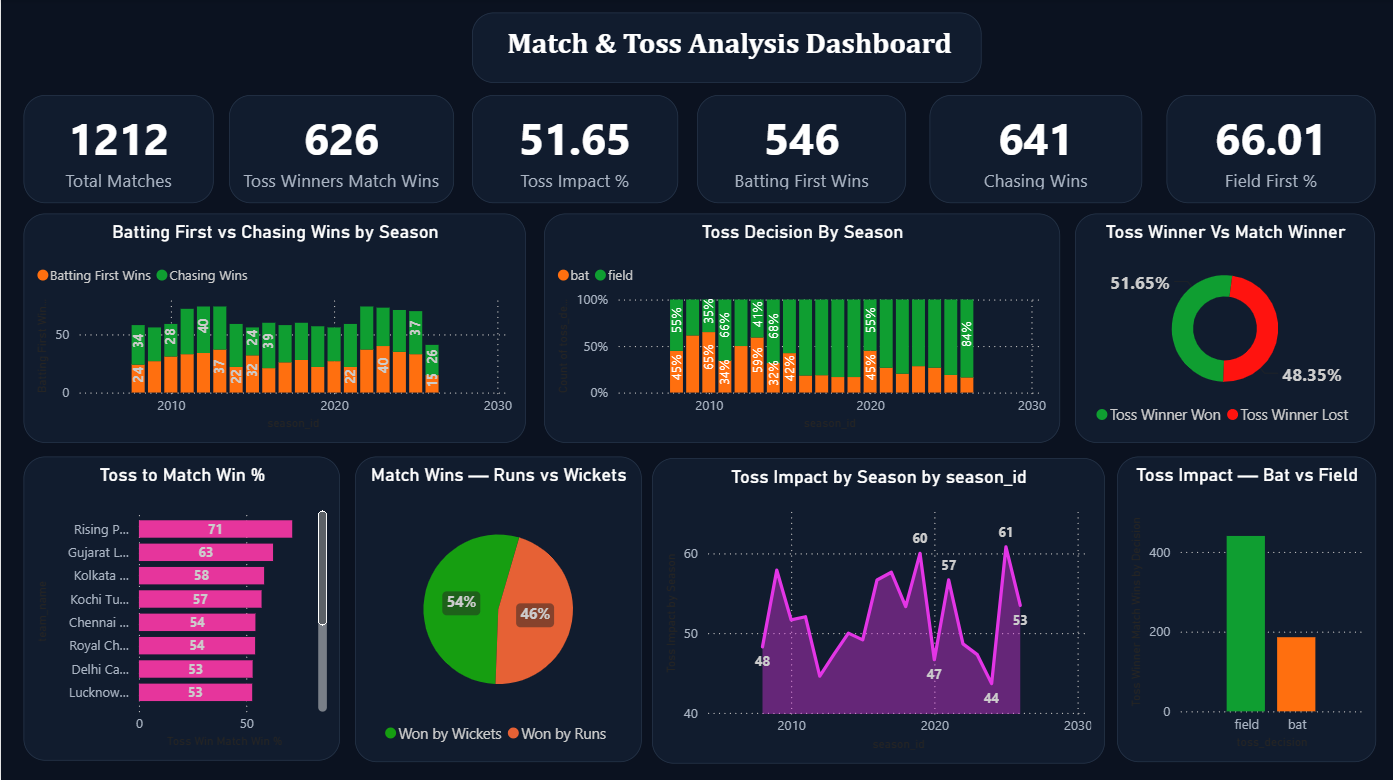

What the dashboard file says about the page in this screenshot:
{"tool":"powerbi","page":{"name":"05 - Match & Toss Analysis","canvas":[1280,720],"ordinal":4},"visuals":[{"type":"card","fields":{"Values":["Measures Table.Total Matches"]},"box":[20.5,88.2,174.8,99.2],"z":0},{"type":"card","fields":{"Values":["Match & Toss Measures.Toss Winners Match Wins"]},"box":[209.5,88.2,206.3,99.2],"z":1000},{"type":"card","fields":{"Values":["Match & Toss Measures.Toss Impact %"]},"box":[433.1,88.2,189,99.2],"z":2000},{"type":"card","fields":{"Values":["Match & Toss Measures.Chasing Wins"]},"box":[852.1,88.2,195.3,99.2],"z":3000},{"type":"card","fields":{"Values":["Match & Toss Measures.Batting First Wins"]},"box":[639.5,88.2,192.2,99.2],"z":4000},{"type":"card","fields":{"Values":["Match & Toss Measures.Field First %"]},"box":[1071.1,88.2,192.2,99.2],"z":5000},{"type":"donutChart","title":"Toss Winner Vs Match Winner","fields":{"Category":["Toss Result Type.Result"],"Y":["Toss Result Type.Toss Result Count"]},"box":[986.3,197,275.5,210.8],"z":6000},{"type":"columnChart","title":"Batting First vs Chasing Wins by Season","fields":{"Category":["Matches.season_id"],"Y":["Match & Toss Measures.Batting First Wins","Match & Toss Measures.Chasing Wins"]},"box":[20.7,197,461.5,210.8],"z":7000},{"type":"hundredPercentStackedColumnChart","title":"Toss Decision By Season","fields":{"Category":["Matches.season_id"],"Y":["CountNonNull(Matches.toss_decision)"],"Series":["Matches.toss_decision"]},"box":[498.7,197,473.9,210.8],"z":8000},{"type":"barChart","title":"Toss to Match Win %","fields":{"Category":["Teams.team_name"],"Y":["Match & Toss Measures.Toss Win Match Win %"]},"box":[20.5,420.5,290.7,279.6],"z":9000},{"type":"pieChart","title":"Match Wins — Runs vs Wickets","fields":{"Category":["Victory Type.Type"],"Y":["Victory Type.Victory Type Count"]},"box":[324.5,420.5,263,280.4],"z":10000},{"type":"clusteredColumnChart","title":"Toss Impact — Bat vs Field","fields":{"Category":["Matches.toss_decision"],"Y":["Match & Toss Measures.Toss Winner Match Wins by Decision"]},"box":[1025.4,420.5,237.8,280.4],"z":11000},{"type":"lineChart","fields":{"Category":["Matches.season_id"],"Y":["Match & Toss Measures.Toss Impact by Season"]},"box":[598.5,422.1,415.8,280.4],"z":12000},{"type":"textbox","box":[433.1,12.6,467.8,64.6],"z":13000}]}

Visuals, with their boxes in screenshot pixels (x1, y1, x2, y2), scaled from the page's 1280x720 canvas onto the 1393x780 screenshot:
card - Measures Table.Total Matches: (22, 96, 213, 203)
card - Match & Toss Measures.Toss Winners Match Wins: (228, 96, 453, 203)
card - Match & Toss Measures.Toss Impact %: (471, 96, 677, 203)
card - Match & Toss Measures.Chasing Wins: (927, 96, 1140, 203)
card - Match & Toss Measures.Batting First Wins: (696, 96, 905, 203)
card - Match & Toss Measures.Field First %: (1166, 96, 1375, 203)
"Toss Winner Vs Match Winner" donutChart: (1073, 213, 1373, 442)
"Batting First vs Chasing Wins by Season" columnChart: (23, 213, 525, 442)
"Toss Decision By Season" hundredPercentStackedColumnChart: (543, 213, 1058, 442)
"Toss to Match Win %" barChart: (22, 456, 339, 758)
"Match Wins — Runs vs Wickets" pieChart: (353, 456, 639, 759)
"Toss Impact — Bat vs Field" clusteredColumnChart: (1116, 456, 1375, 759)
lineChart - Matches.season_id x Match & Toss Measures.Toss Impact by Season: (651, 457, 1104, 761)
textbox: (471, 14, 980, 84)
